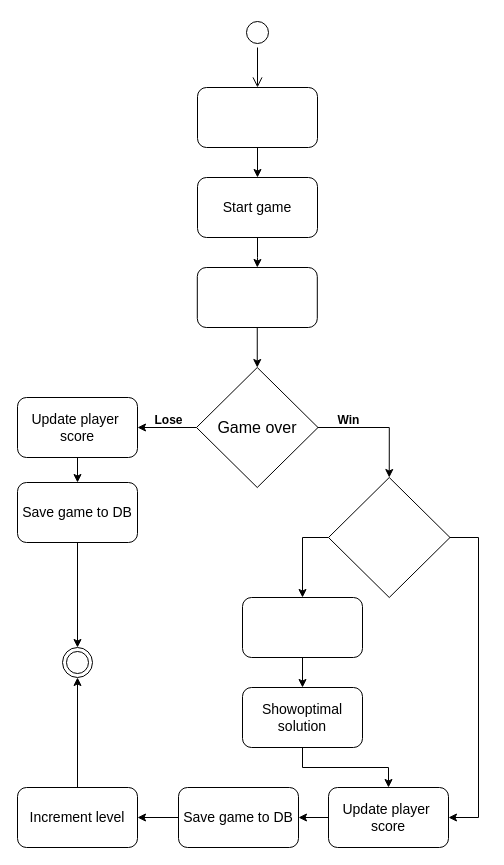
The diagram is 504 pixels wide and 865 high, and some of its shapes have lost their labels. The box of each missing label's shape, as (x1, y1, x2, y2) in pixels:
Calculate optimal solution: (242, 596, 362, 658)
Optimal solution: (328, 476, 450, 598)
Play Button Pressed: (196, 86, 318, 148)
Play game: (196, 266, 317, 328)
